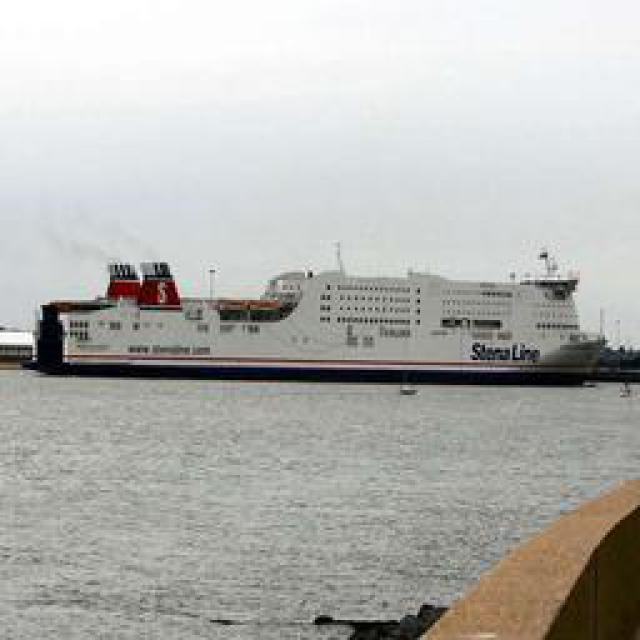Ship: (41, 256, 601, 386)
